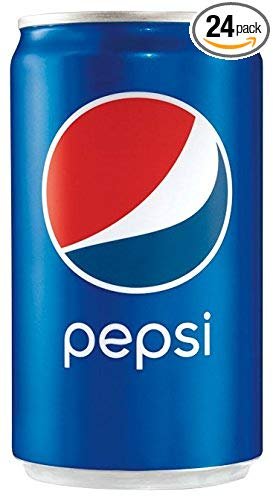pepsi: (31, 90, 230, 293), (41, 90, 230, 293)
